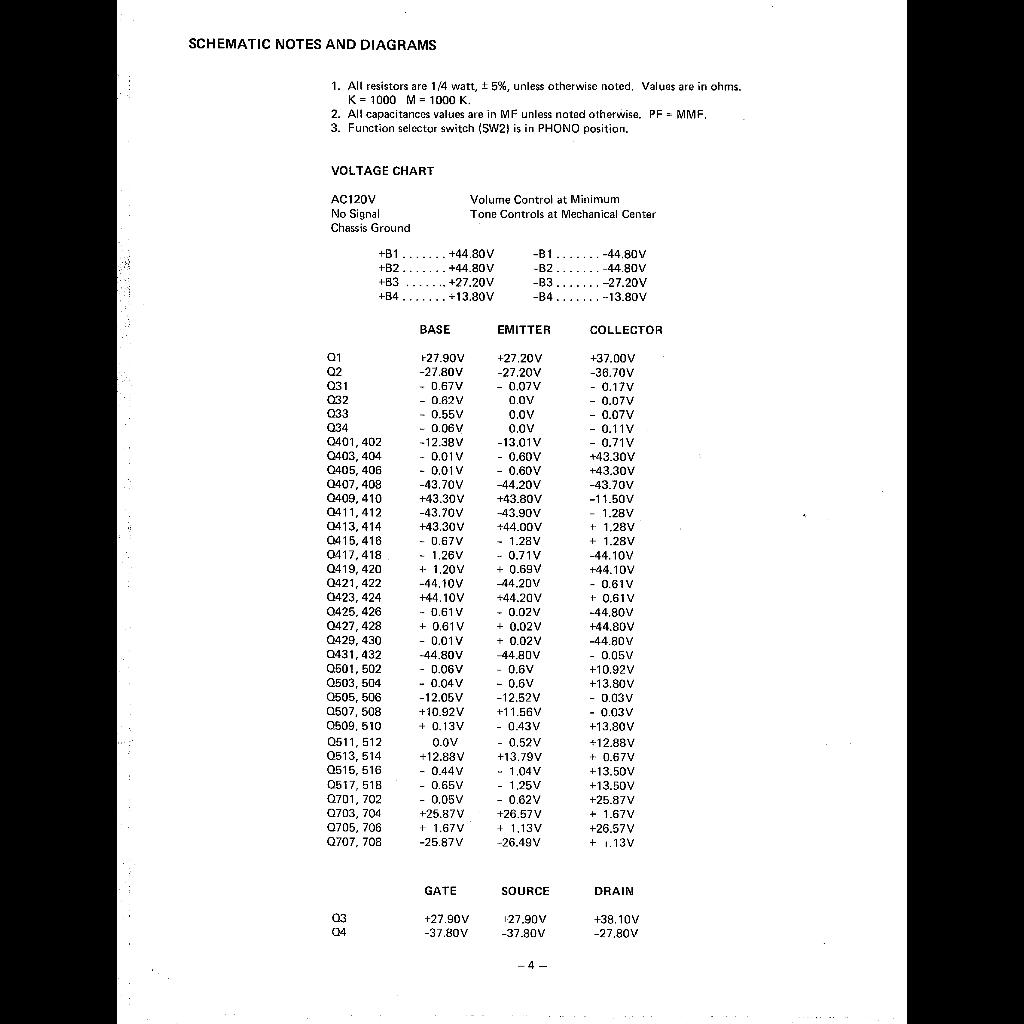Table: (316, 320, 668, 852), (320, 877, 646, 951)
